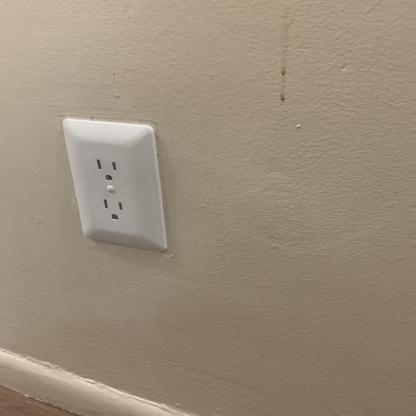OUTLET: (60, 115, 173, 258)
